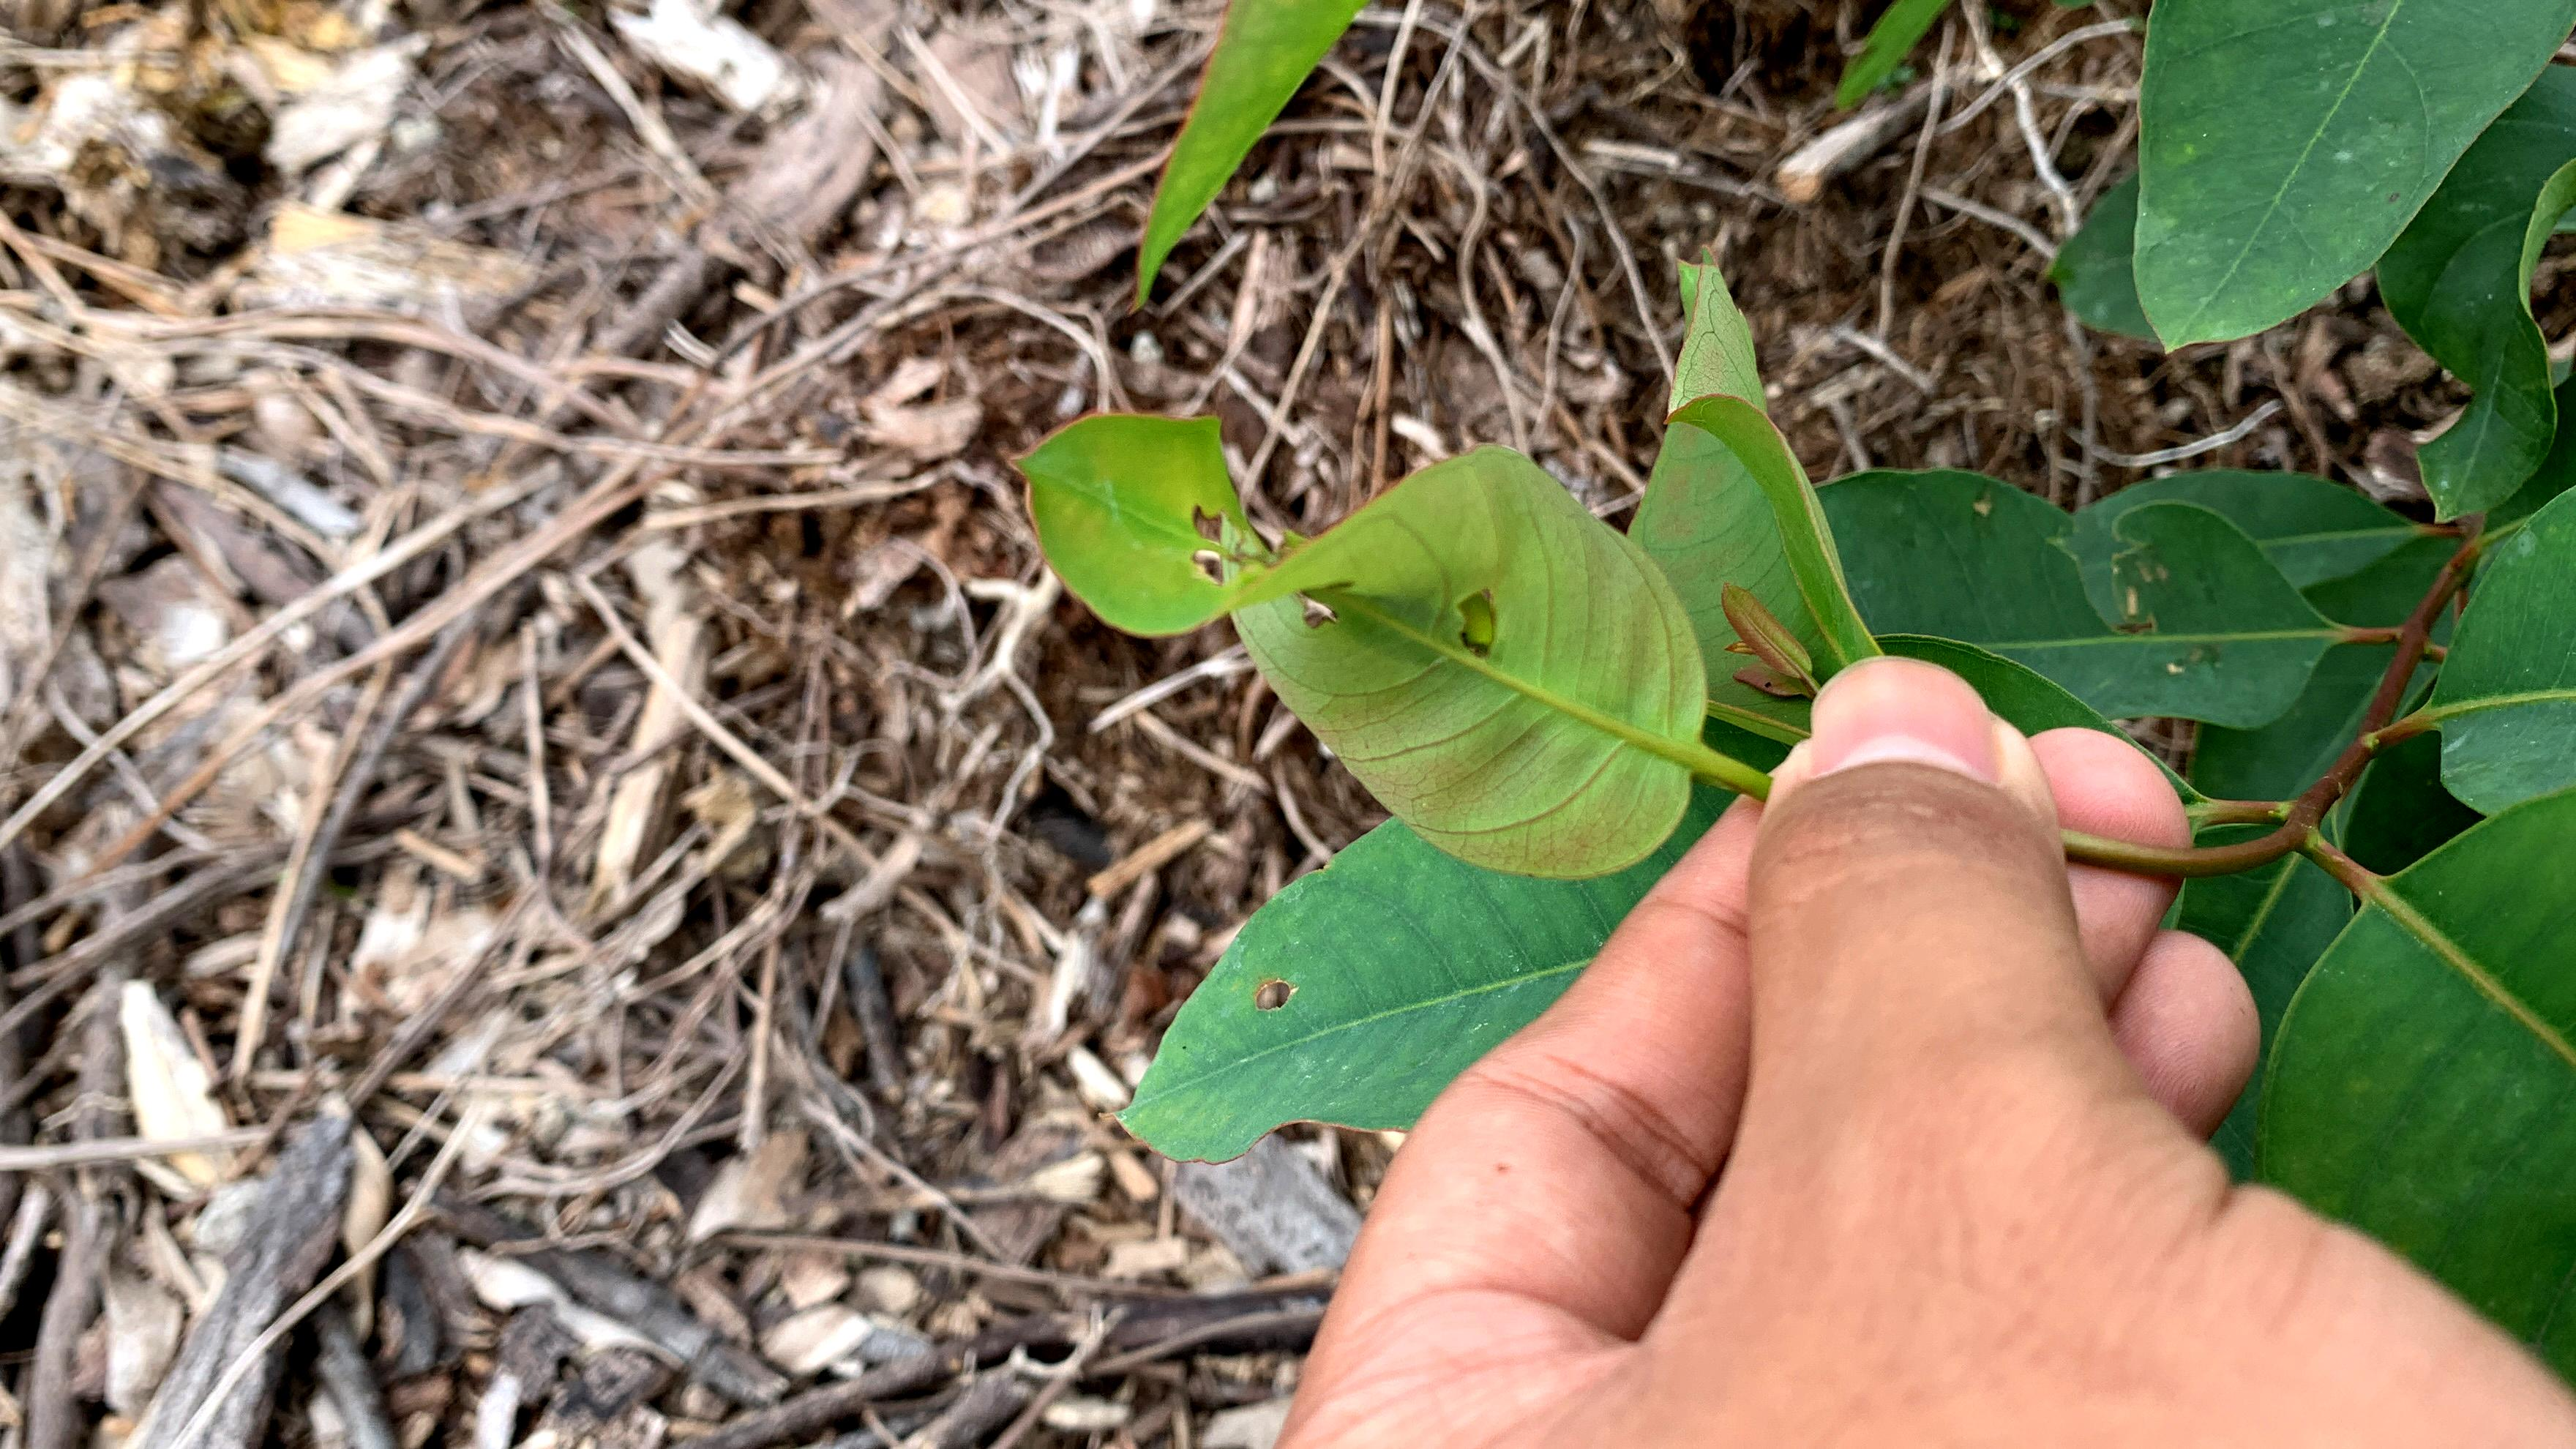Leaf Roller - Leaf: (978, 349, 1718, 908)
